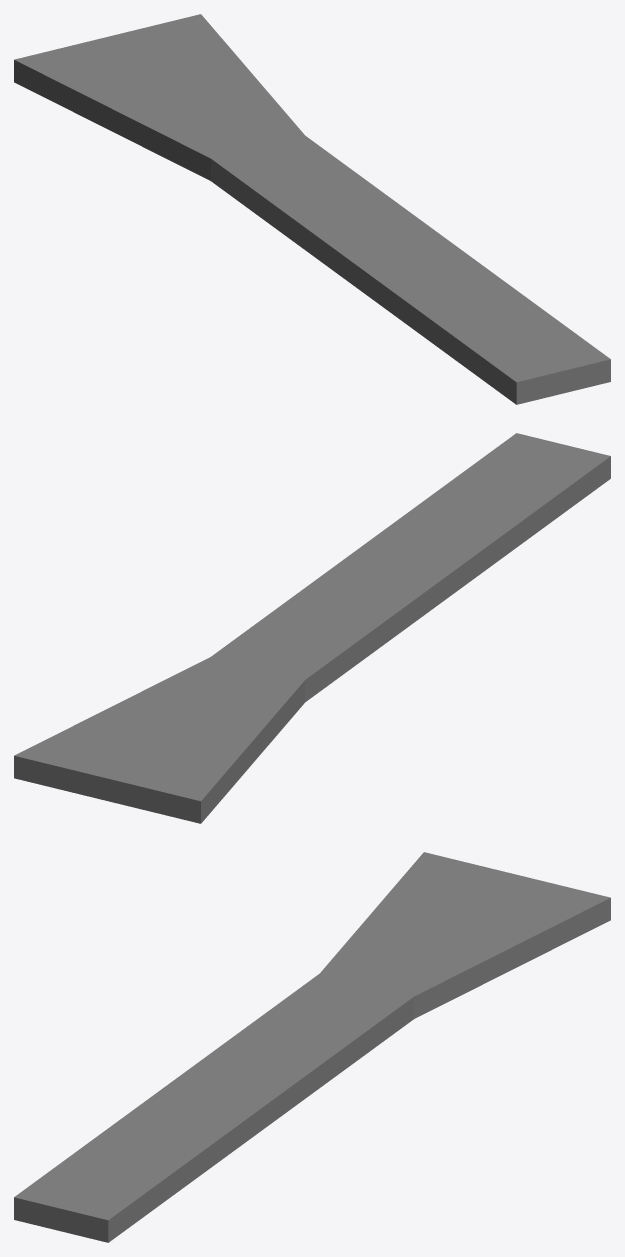
The model's file is haarukka.FBX.
3 views of the same model, one above another, from view 1: azimuth 30°, elevation 25°; view 2: azimuth 150°, elevation 25°; view 3: azimuth 330°, elevation 25° (orthographic).
Visible parts, largest first — view 1: haarukka; view 2: haarukka; view 3: haarukka.
Part boxes in pixels (box(x1,y1,x2,y2)): haarukka: box(14, 14, 610, 404); haarukka: box(14, 433, 610, 823); haarukka: box(14, 852, 610, 1242).
Size of the model in its own units: 10.94 by 1.26 by 46.22.
